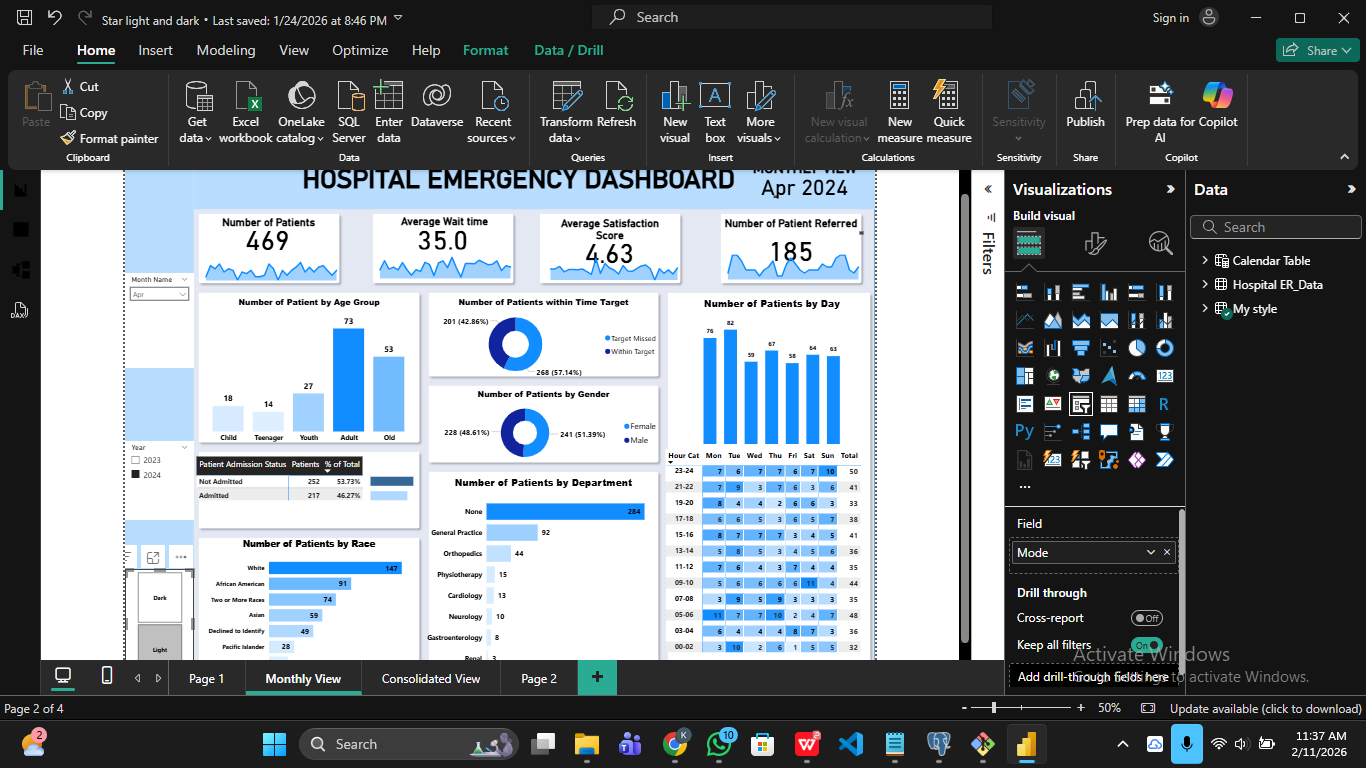

The dashboard page shown, as its layout file describes it:
{"tool":"powerbi","page":{"name":"Monthly View","canvas":[1500,1050],"ordinal":1},"visuals":[{"type":"shape","box":[0,0,1500,1050],"z":0},{"type":"shape","box":[0,0,137.5,1050],"z":1000},{"type":"shape","box":[137.5,0,1362.5,112.5],"z":2000},{"type":"shape","box":[137.5,112.5,300,157.5],"z":3000},{"type":"slicer","fields":{"Values":["My style.Mode"]},"box":[0,832.5,137.5,217.5],"z":4000},{"type":"shape","box":[485,112.5,300,157.5],"z":5000},{"type":"shape","box":[820,112.5,300,157.5],"z":6000},{"type":"shape","box":[1182.5,112.5,300,157.5],"z":7000},{"type":"shape","box":[138,270,460,318],"z":8000},{"type":"shape","box":[138,588,460,172],"z":9000},{"type":"shape","box":[138,760,460,290],"z":10000},{"type":"shape","box":[598,270,478,186],"z":11000},{"type":"shape","box":[598,456,478,172],"z":12000},{"type":"shape","box":[598,628,478,422],"z":13000},{"type":"shape","box":[1076,270,424,780],"z":14000},{"type":"textbox","title":"HOSPITAL EMERGENCY DASHBOARD","box":[350,20,960,75],"z":15000},{"type":"textbox","title":"Number of Patients","box":[175,125,222.5,27.5],"z":16000},{"type":"textbox","title":"Average Wait time","box":[527.5,123,222.5,27.5],"z":17000},{"type":"textbox","title":"Average Satisfaction Score","box":[838,128,264,52],"z":18000},{"type":"textbox","title":"Number of Patient Referred","box":[1182,128,300,40],"z":19000},{"type":"card","fields":{"Values":["Hospital ER_Data.No of Patients"]},"box":[190,138,190,61],"z":20000},{"type":"card","fields":{"Values":["Hospital ER_Data.Avg Waittime"]},"box":[542,138,186,60],"z":21000},{"type":"card","fields":{"Values":["Hospital ER_Data.Satisfaction Score"]},"box":[888,158,162,70],"z":22000},{"type":"card","fields":{"Values":["Hospital ER_Data.No of Patient Referred"]},"box":[1260,158,144,64],"z":23000},{"type":"columnChart","title":"Number of Patient by Age Group","fields":{"Category":["Hospital ER_Data.Age Group"],"Y":["Hospital ER_Data.No of Patient Referred"]},"box":[138,286,460,302],"z":24000},{"type":"pivotTable","fields":{"Rows":["Hospital ER_Data.Patient Admission Status"],"Values":["Hospital ER_Data.No of Patients","Divide(Hospital ER_Data.No of Patients, ScopedEval(Hospital ER_Data.No of Patients, []))"]},"box":[138,602,348,106],"z":25000},{"type":"barChart","fields":{"Category":["Hospital ER_Data.Patient Admission Status"],"Y":["Hospital ER_Data.No of Patients"]},"box":[486,619,112,96],"z":26000},{"type":"barChart","title":"Number of Patients by Department","fields":{"Y":["Hospital ER_Data.No of Patients"],"Category":["Hospital ER_Data.Department Referral"]},"box":[598,644,478,406],"z":27000},{"type":"donutChart","title":"Number of Patients within Time Target","fields":{"Category":["Hospital ER_Data.Timeliness"],"Y":["Hospital ER_Data.No of Patients"]},"box":[598,286,478,170],"z":28000},{"type":"donutChart","title":"Number of Patients by Gender","fields":{"Y":["Hospital ER_Data.No of Patients"],"Category":["Hospital ER_Data.Patient Gender"]},"box":[598,470,478,156],"z":29000},{"type":"barChart","title":"Number of Patients by Race","fields":{"Y":["Hospital ER_Data.No of Patients"],"Category":["Hospital ER_Data.Patient Race"]},"box":[138,768,460,282],"z":30000},{"type":"pivotTable","fields":{"Rows":["Hospital ER_Data.Hour Cat"],"Columns":["Calendar Table.Day Name"],"Values":["Hospital ER_Data.No of Patients"]},"box":[1076,588,424,462],"z":31000},{"type":"columnChart","title":"Number of Patients by Day","fields":{"Category":["Calendar Table.Day Name"],"Y":["Hospital ER_Data.No of Patients"]},"box":[1152,286,284,302],"z":32000},{"type":"areaChart","fields":{"Category":["Calendar Table.Date.Variation.Date Hierarchy.Day"],"Y":["Hospital ER_Data.No of Patients"]},"box":[138,192,300,68],"z":33000},{"type":"slicer","fields":{"Values":["Calendar Table.Year"]},"box":[0,576,138,158],"z":34000},{"type":"slicer","fields":{"Values":["Calendar Table.Month Name"]},"box":[0,240,138,190],"z":35000},{"type":"areaChart","fields":{"Category":["Calendar Table.Date.Variation.Date Hierarchy.Day"],"Y":["Hospital ER_Data.Avg Waittime Figure"]},"box":[486,188,300,68],"z":36000},{"type":"areaChart","fields":{"Category":["Calendar Table.Date.Variation.Date Hierarchy.Day"],"Y":["Hospital ER_Data.Satisfaction Score"]},"box":[818,192,302,68],"z":37000},{"type":"areaChart","fields":{"Category":["Calendar Table.Date.Variation.Date Hierarchy.Day"],"Y":["Hospital ER_Data.No of Patient Referred"]},"box":[1182,190,300,68],"z":38000},{"type":"textbox","title":"MONTHLY VIEW","box":[1238,12,244,36],"z":39000},{"type":"card","fields":{"Values":["Min(Calendar Table.Month Year)"]},"box":[1248,32,222,64],"z":40000}]}

Visuals, with their boxes on the page's 1500x1050 design canvas (x1, y1, x2, y2). These are canvas units, not pixel positions in the 1366x768 screenshot, which may show the page scaled, cropped or inside an application window:
shape: box(0, 0, 1500, 1050)
shape: box(0, 0, 138, 1050)
shape: box(138, 0, 1500, 112)
shape: box(138, 112, 438, 270)
slicer - My style.Mode: box(0, 832, 138, 1050)
shape: box(485, 112, 785, 270)
shape: box(820, 112, 1120, 270)
shape: box(1182, 112, 1482, 270)
shape: box(138, 270, 598, 588)
shape: box(138, 588, 598, 760)
shape: box(138, 760, 598, 1050)
shape: box(598, 270, 1076, 456)
shape: box(598, 456, 1076, 628)
shape: box(598, 628, 1076, 1050)
shape: box(1076, 270, 1500, 1050)
"HOSPITAL EMERGENCY DASHBOARD" textbox: box(350, 20, 1310, 95)
"Number of Patients" textbox: box(175, 125, 398, 152)
"Average Wait time" textbox: box(528, 123, 750, 150)
"Average Satisfaction Score" textbox: box(838, 128, 1102, 180)
"Number of Patient Referred" textbox: box(1182, 128, 1482, 168)
card - Hospital ER_Data.No of Patients: box(190, 138, 380, 199)
card - Hospital ER_Data.Avg Waittime: box(542, 138, 728, 198)
card - Hospital ER_Data.Satisfaction Score: box(888, 158, 1050, 228)
card - Hospital ER_Data.No of Patient Referred: box(1260, 158, 1404, 222)
"Number of Patient by Age Group" columnChart: box(138, 286, 598, 588)
pivotTable - Hospital ER_Data.Patient Admission Status x Hospital ER_Data.No of Patients: box(138, 602, 486, 708)
barChart - Hospital ER_Data.Patient Admission Status x Hospital ER_Data.No of Patients: box(486, 619, 598, 715)
"Number of Patients by Department" barChart: box(598, 644, 1076, 1050)
"Number of Patients within Time Target" donutChart: box(598, 286, 1076, 456)
"Number of Patients by Gender" donutChart: box(598, 470, 1076, 626)
"Number of Patients by Race" barChart: box(138, 768, 598, 1050)
pivotTable - Hospital ER_Data.Hour Cat x Calendar Table.Day Name: box(1076, 588, 1500, 1050)
"Number of Patients by Day" columnChart: box(1152, 286, 1436, 588)
areaChart - Calendar Table.Date.Variation.Date Hierarchy.Day x Hospital ER_Data.No of Patients: box(138, 192, 438, 260)
slicer - Calendar Table.Year: box(0, 576, 138, 734)
slicer - Calendar Table.Month Name: box(0, 240, 138, 430)
areaChart - Calendar Table.Date.Variation.Date Hierarchy.Day x Hospital ER_Data.Avg Waittime Figure: box(486, 188, 786, 256)
areaChart - Calendar Table.Date.Variation.Date Hierarchy.Day x Hospital ER_Data.Satisfaction Score: box(818, 192, 1120, 260)
areaChart - Calendar Table.Date.Variation.Date Hierarchy.Day x Hospital ER_Data.No of Patient Referred: box(1182, 190, 1482, 258)
"MONTHLY VIEW" textbox: box(1238, 12, 1482, 48)
card - Min(Calendar Table.Month Year): box(1248, 32, 1470, 96)
